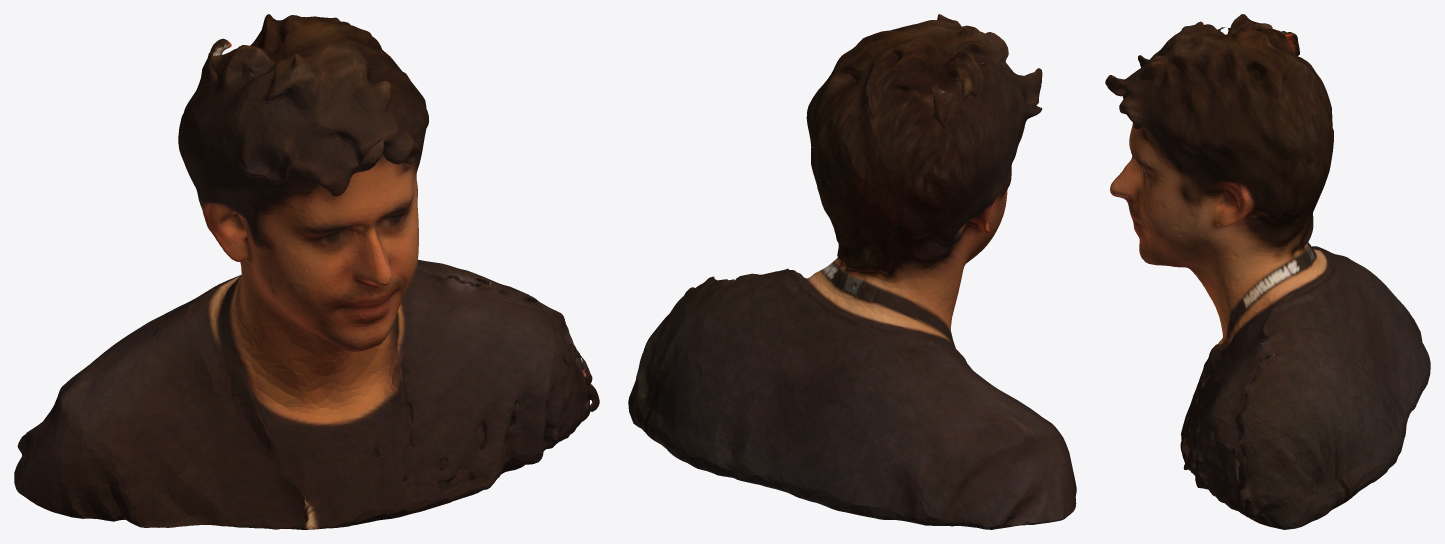
3 renders of one model, left to right at view 1: azimuth 30°, elevation 25°; view 2: azimuth 150°, elevation 25°; view 3: azimuth 270°, elevation 25°, orthographic. The views are drawn at different scales.
Size of the model in its own units: 0.4788 by 0.4241 by 0.3229.
Materials: 1 (1 with a texture image).
